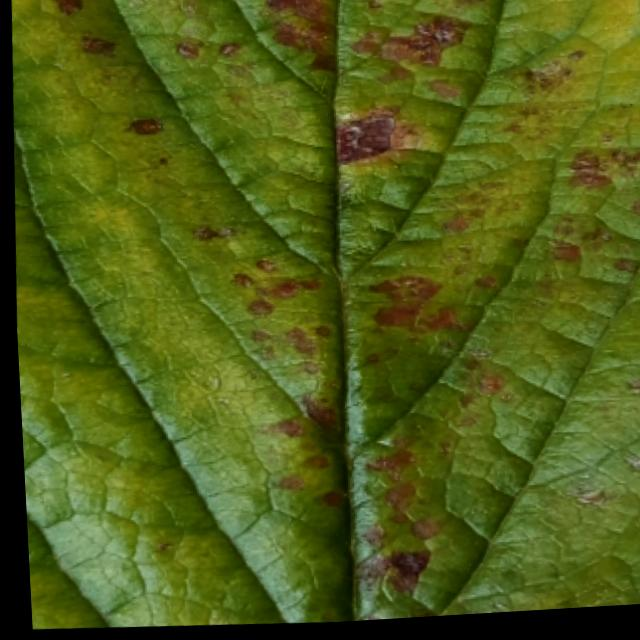Angular Leafspot: (11, 0, 640, 625)
